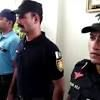uniform: (15, 30, 65, 100)
